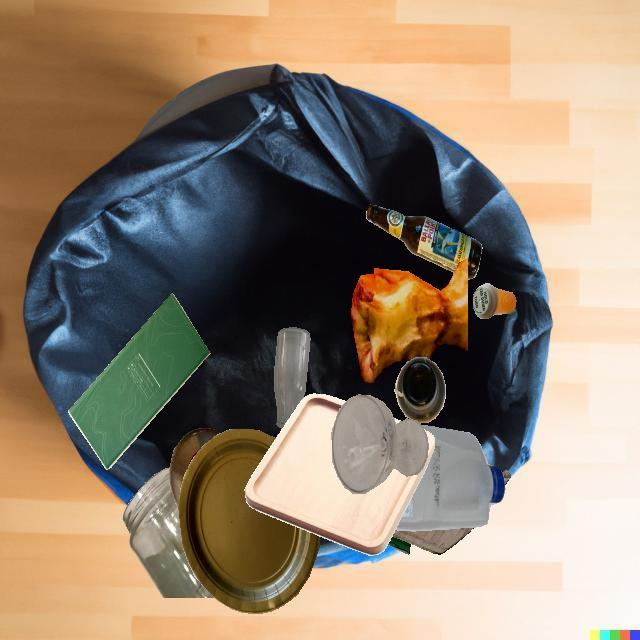biowaste: (351, 258, 468, 383)
combustible waste: (245, 393, 435, 555)
glass: (123, 468, 215, 598), (331, 394, 428, 493), (366, 204, 482, 279), (274, 327, 310, 428), (395, 357, 446, 422), (387, 536, 411, 555)
paper: (178, 429, 320, 614), (68, 294, 210, 469), (392, 527, 474, 554)
plastic: (395, 425, 505, 531), (169, 428, 220, 509), (473, 283, 516, 319)
